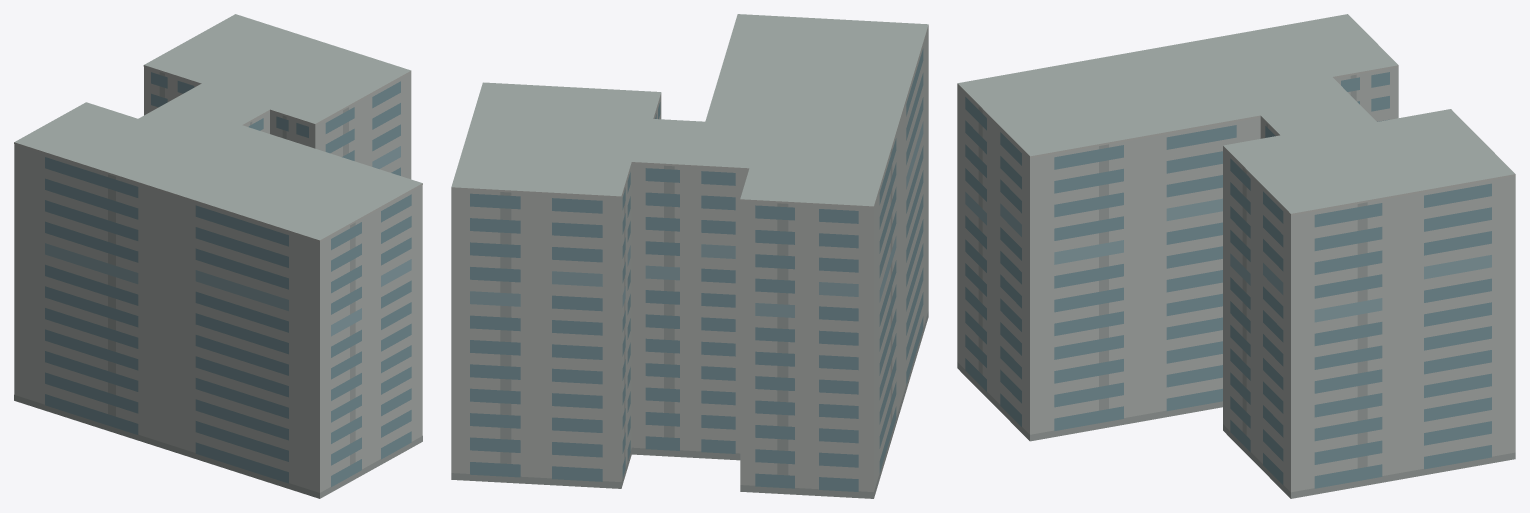
Rendered from residential-b74a101f-45a9-4519-848d-2af5532dba26.glb.
The picture shows the model from 3 angles, left to right: view 1: azimuth 30°, elevation 25°; view 2: azimuth 150°, elevation 25°; view 3: azimuth 270°, elevation 25°; orthographic projection. The views are drawn at different scales.
Parts seen in each view (by area): view 1: residential-b74a101f-45a9-4519-848d-2af5532dba26.tmp; view 2: residential-b74a101f-45a9-4519-848d-2af5532dba26.tmp; view 3: residential-b74a101f-45a9-4519-848d-2af5532dba26.tmp.
Part boxes in pixels (<box>): residential-b74a101f-45a9-4519-848d-2af5532dba26.tmp: <box>14,14,422,498</box>; residential-b74a101f-45a9-4519-848d-2af5532dba26.tmp: <box>451,14,928,498</box>; residential-b74a101f-45a9-4519-848d-2af5532dba26.tmp: <box>957,14,1515,498</box>.
Size of the model in its own units: 52.63 by 35 by 62.12.
